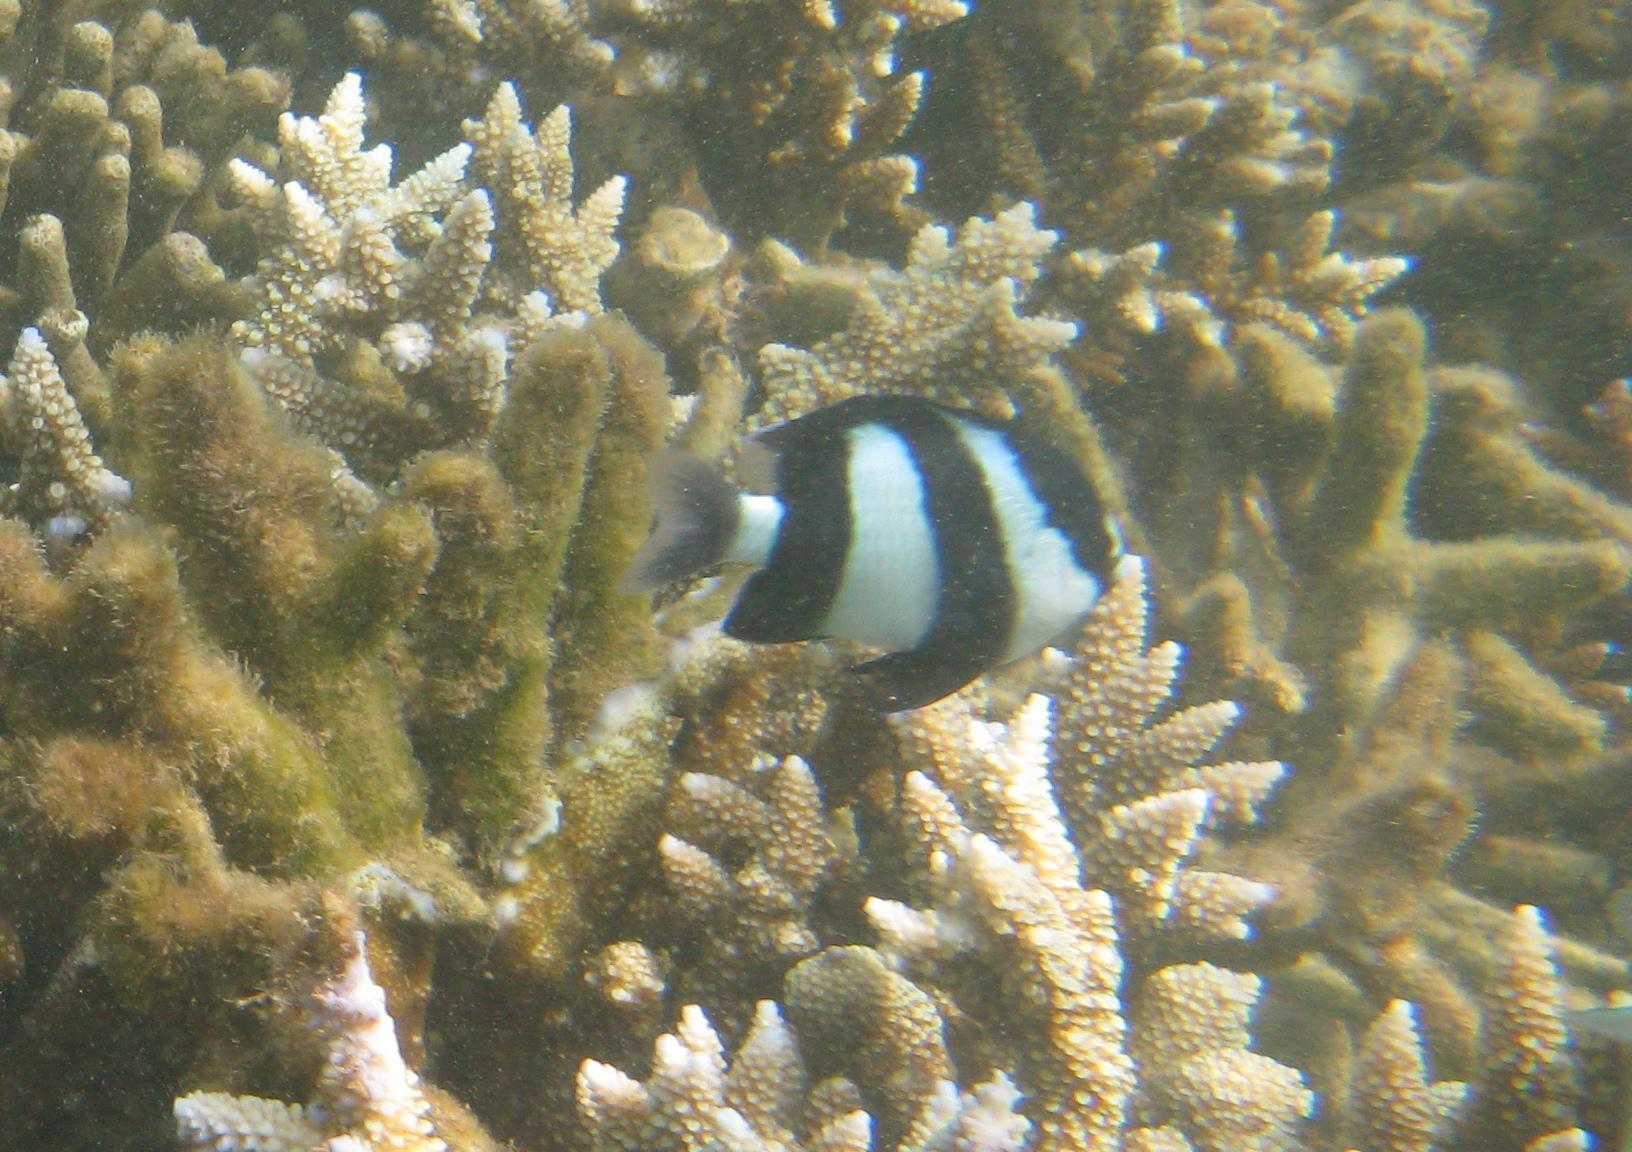Dascyllus aruanus: (596, 333, 1264, 747)
